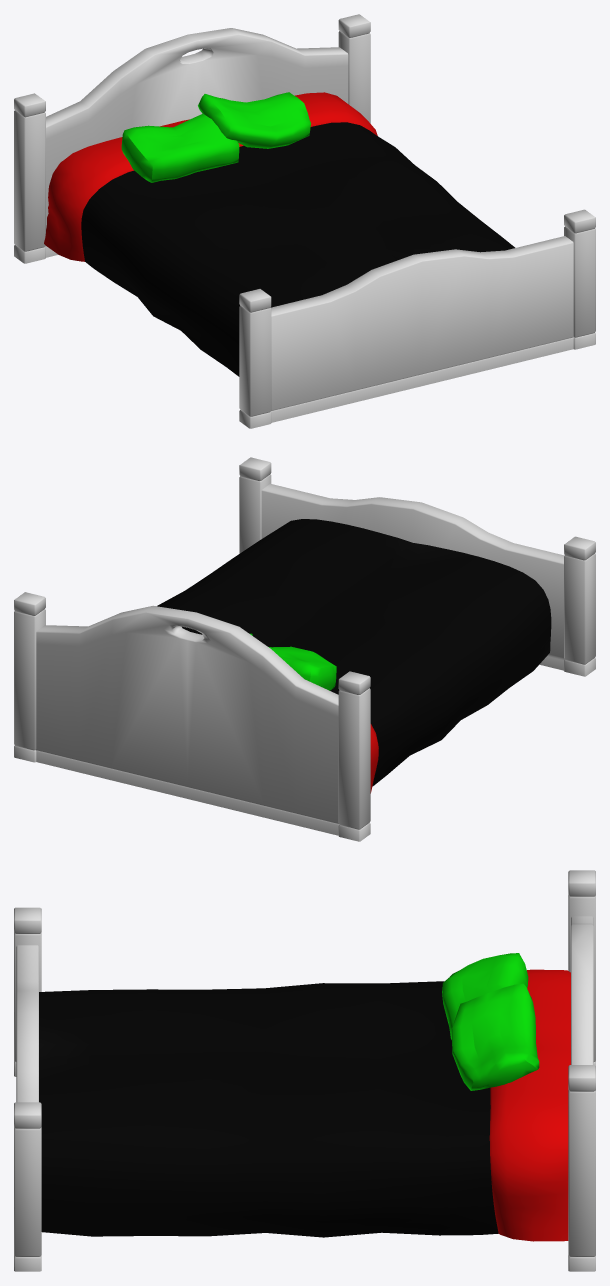
File: GrandphaBed.fbx
3 renders of one model, top to bottom at view 1: azimuth 30°, elevation 25°; view 2: azimuth 150°, elevation 25°; view 3: azimuth 270°, elevation 25°, orthographic. The views are drawn at different scales.
Visible parts, largest first — view 1: Big Bed; view 2: Big Bed; view 3: Big Bed.
Boxes of the visible parts, bbox=[...] form: Big Bed: bbox=[14, 14, 595, 428]; Big Bed: bbox=[14, 457, 595, 841]; Big Bed: bbox=[14, 870, 595, 1271].
Bounding box in the file's own units: 4.42 × 1.85 × 3.73.
